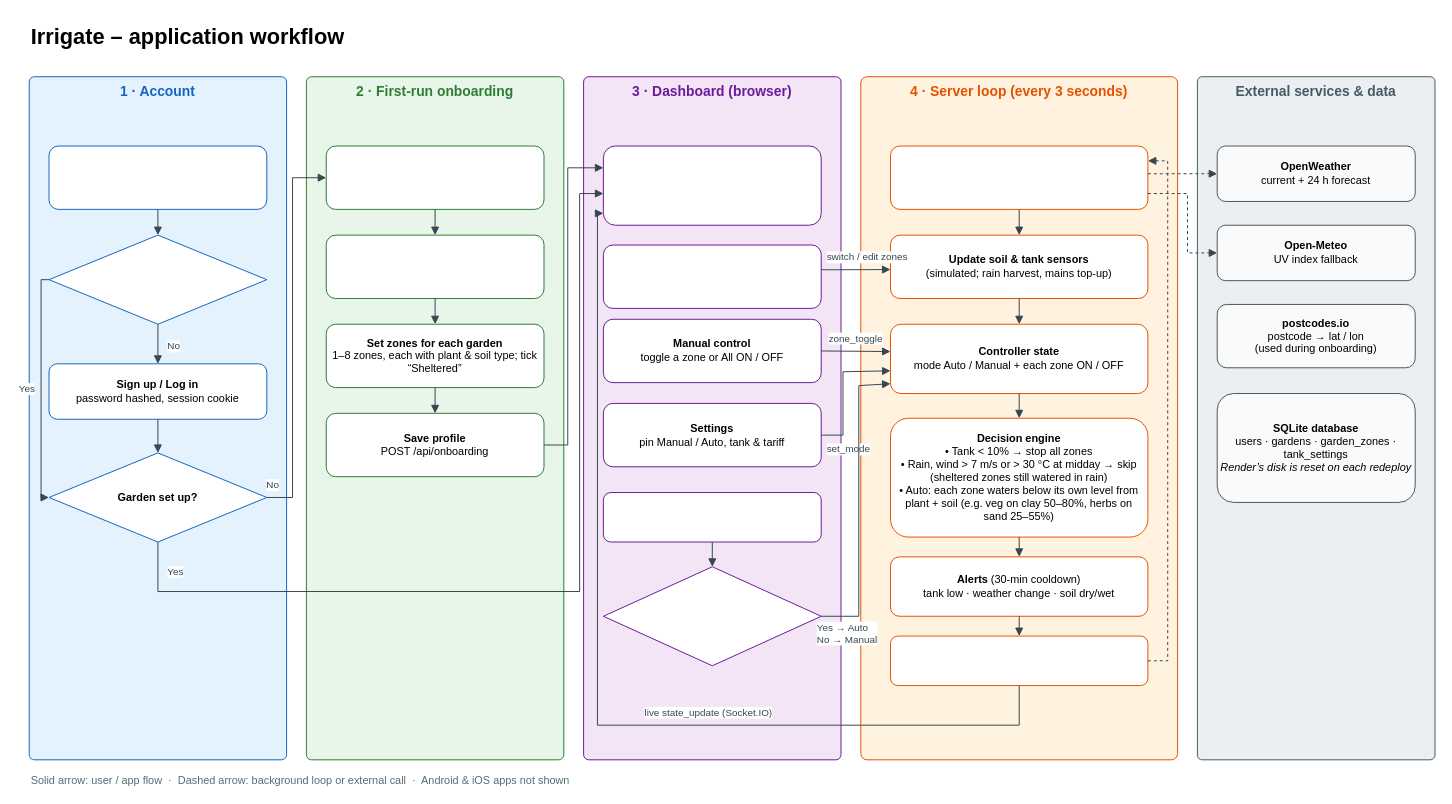
Some shapes in this 1452 by 804 pixel diagram are drawn without their labels. The shapes that lost their labels are listed below. From the top down, each one's centre as x and y in pixels, then its label:
[157,177]: Open Irrigate GitHub Pages or localhost:5000
[434,177]: Choose plant type and soil type
[711,185]: Dashboard opens Socket.IO connects; active garden’s zones loaded
[1019,177]: Fetch weather for the active garden (cached 10 min)
[157,279]: Signed in? GET /api/auth/me
[434,266]: Add 1–10 garden locations UK postcode or phone GPS
[711,276]: My Profile switch garden or edit zones
[711,517]: Phone GPS sends location
[711,616]: More than 1 mile from garden?
[1019,660]: Broadcast live state to dashboards
